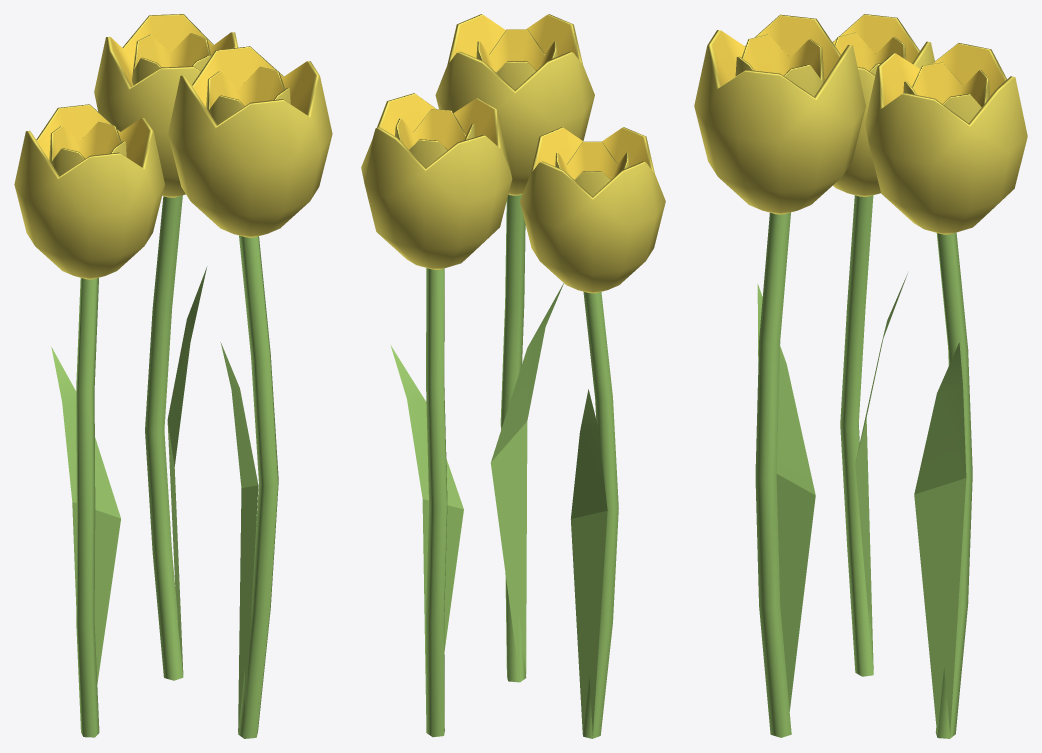
Rendered from flowers02_yellow.fbx.
The picture shows the model from 3 angles, left to right: view 1: azimuth 30°, elevation 25°; view 2: azimuth 150°, elevation 25°; view 3: azimuth 270°, elevation 25°; orthographic projection. The views are drawn at different scales.
Visible parts, largest first — view 1: flowers02_yellow; view 2: flowers02_yellow; view 3: flowers02_yellow.
Part boxes in pixels (x1,y1,x2,y2): flowers02_yellow: (14,14,332,738); flowers02_yellow: (361,14,665,738); flowers02_yellow: (694,14,1027,738).
Size of the model in its own units: 0.5066 by 1.24 by 0.5458.
